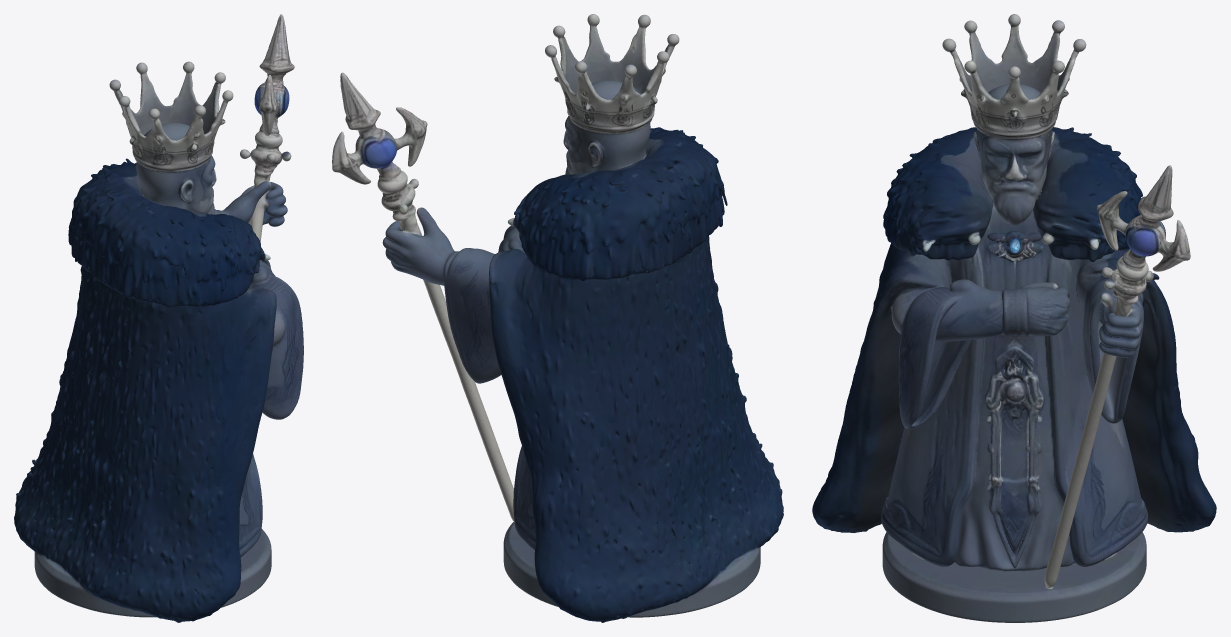
The model's file is mesh.glb.tmp-opt.glb.
3 renders of one model, left to right at view 1: azimuth 30°, elevation 25°; view 2: azimuth 150°, elevation 25°; view 3: azimuth 270°, elevation 25°, orthographic. The views are drawn at different scales.
Visible parts, largest first — view 1: tripo_node_b46f04f3-21b2-4b36-8926-b333f5a13b9b; view 2: tripo_node_b46f04f3-21b2-4b36-8926-b333f5a13b9b; view 3: tripo_node_b46f04f3-21b2-4b36-8926-b333f5a13b9b.
Boxes of the visible parts, bbox=[...] form: tripo_node_b46f04f3-21b2-4b36-8926-b333f5a13b9b: bbox=[14, 14, 303, 622]; tripo_node_b46f04f3-21b2-4b36-8926-b333f5a13b9b: bbox=[332, 14, 783, 622]; tripo_node_b46f04f3-21b2-4b36-8926-b333f5a13b9b: bbox=[812, 14, 1216, 622].
Bounding box in the file's own units: 0.6633 × 1 × 0.6796.
Materials: 1 (1 with a texture image).
